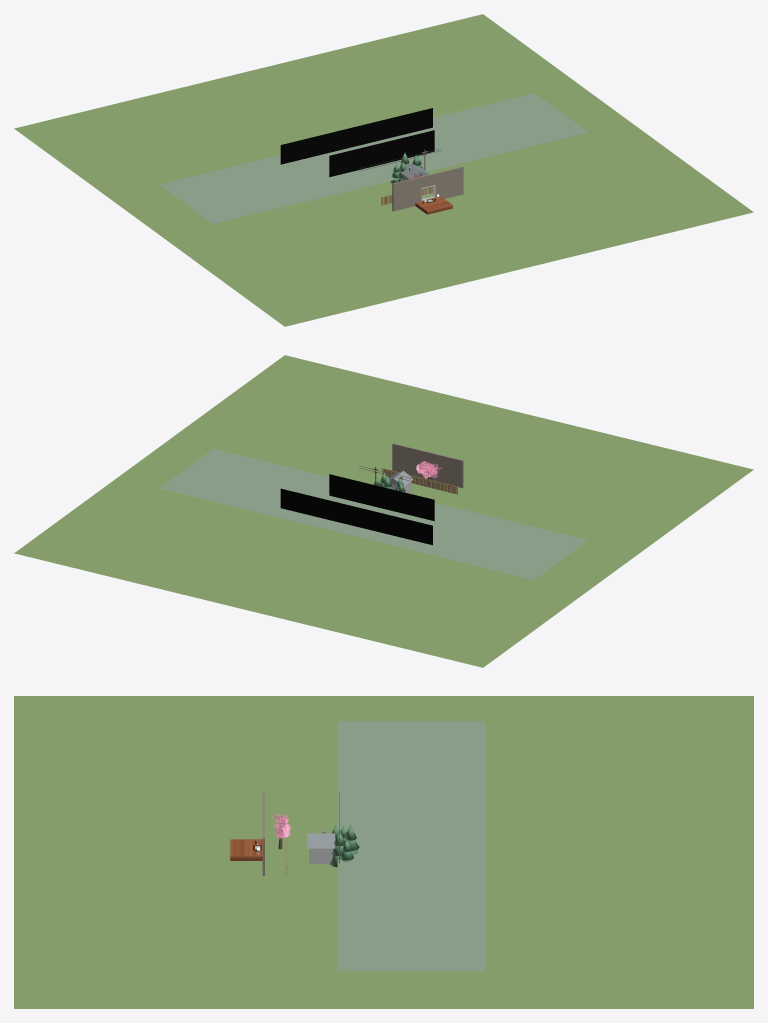
3 renders of one model, top to bottom at view 1: azimuth 30°, elevation 25°; view 2: azimuth 150°, elevation 25°; view 3: azimuth 270°, elevation 25°, orthographic. The views are drawn at different scales.
Parts seen in each view (by area): view 1: GEO_OutGround, GEO_OutHill, GEO_OutForestFar, GEO_OutForestNear, GEO_Wall; view 2: GEO_OutGround, GEO_OutHill, GEO_OutForestFar, GEO_OutForestNear, GEO_Wall; view 3: GEO_OutGround, GEO_OutHill, GEO_OutPines, GEO_Desk.
Boxes of the visible parts, x1,y1,x2,y2 form: GEO_OutGround: (14,14,753,326); GEO_OutHill: (159,93,587,223); GEO_OutForestFar: (280,108,432,164); GEO_OutForestNear: (329,130,434,177); GEO_Wall: (392,166,463,211); GEO_OutGround: (14,355,753,667); GEO_OutHill: (159,449,587,579); GEO_OutForestFar: (280,488,432,545); GEO_OutForestNear: (329,474,434,521); GEO_Wall: (392,443,463,487); GEO_OutGround: (14,696,753,1008); GEO_OutHill: (337,721,485,971); GEO_OutPines: (329,824,359,867); GEO_Desk: (230,839,262,860).
Bounding box in the file's own units: 40 × 2.8 × 40.
Materials: 41 (5 with a texture image).
